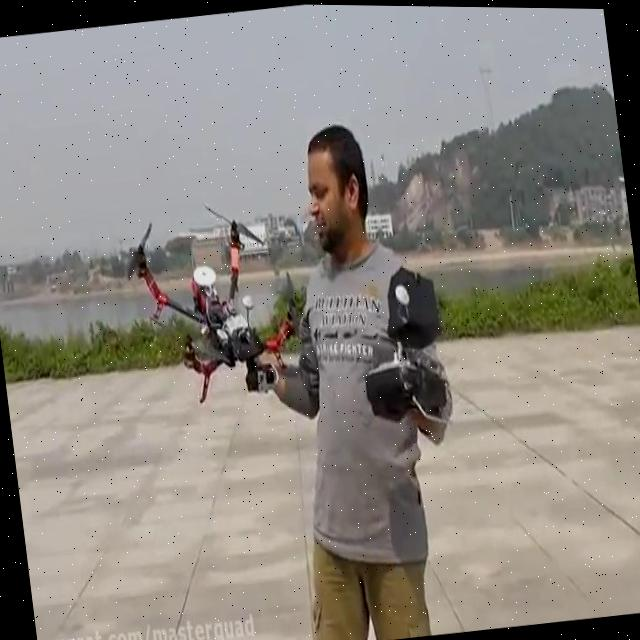drone: (115, 188, 313, 414)
